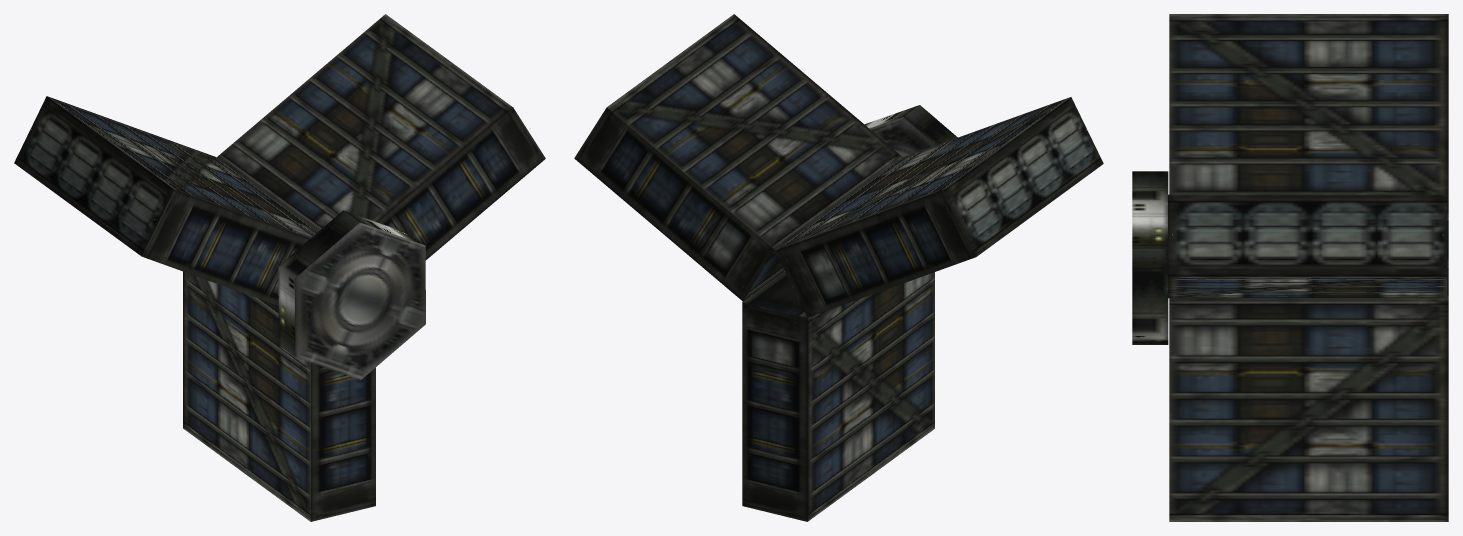
File: utl28a_static.obj
3 views of the same model, side by side, from view 1: azimuth 30°, elevation 25°; view 2: azimuth 150°, elevation 25°; view 3: azimuth 270°, elevation 25° (orthographic). The views are drawn at different scales.
Visible parts, largest first — view 1: frm-fuselg3, frm-fuselg1, frm-fuselg2, frm-ffuselg; view 2: frm-fuselg3, frm-fuselg1, frm-fuselg2, frm-ffuselg; view 3: frm-fuselg1, frm-fuselg2, frm-fuselg3, frm-ffuselg.
Part boxes in pixels (x1,y1,x2,y2): frm-fuselg3: [216, 14, 545, 260]; frm-fuselg1: [183, 271, 375, 521]; frm-fuselg2: [14, 96, 317, 305]; frm-ffuselg: [278, 210, 425, 379]; frm-fuselg3: [574, 14, 902, 301]; frm-fuselg1: [742, 271, 934, 521]; frm-fuselg2: [775, 97, 1103, 317]; frm-ffuselg: [865, 105, 957, 157]; frm-fuselg1: [1169, 263, 1448, 521]; frm-fuselg2: [1169, 14, 1448, 263]; frm-fuselg3: [1168, 194, 1447, 298]; frm-ffuselg: [1132, 171, 1168, 344].
Size of the model in its own units: 70.58 by 61.62 by 43.82.
